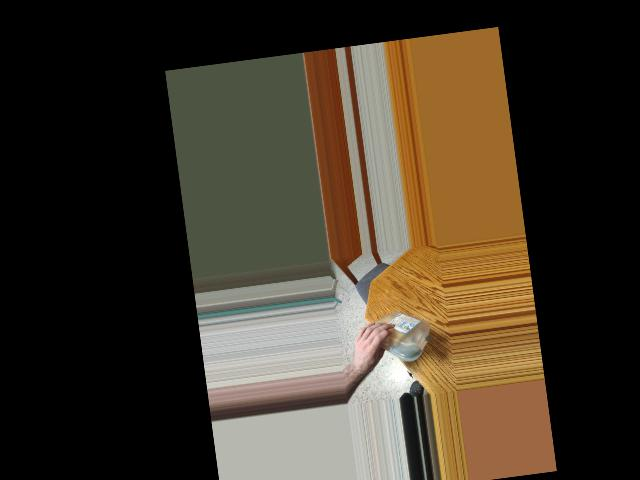cheese: (363, 304, 435, 365)
